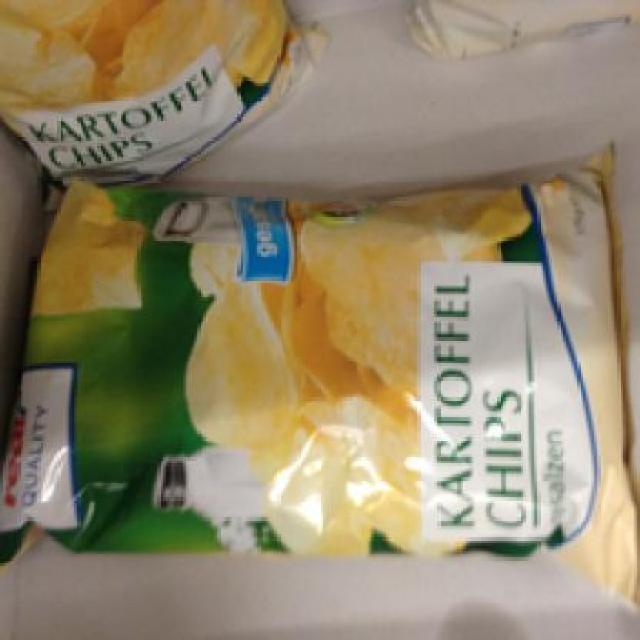Chips: (2, 173, 635, 590), (0, 0, 323, 189)
